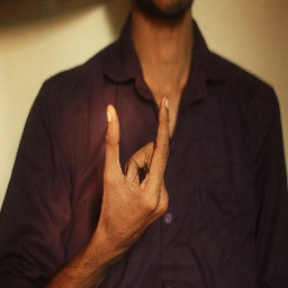U: (94, 95, 182, 233)
